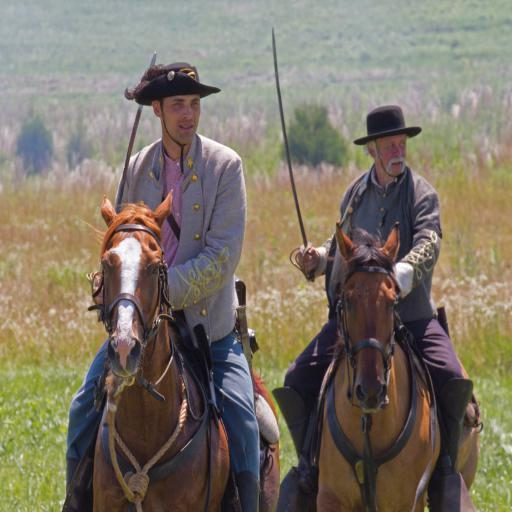horse: (90, 189, 283, 512), (316, 220, 480, 512)
